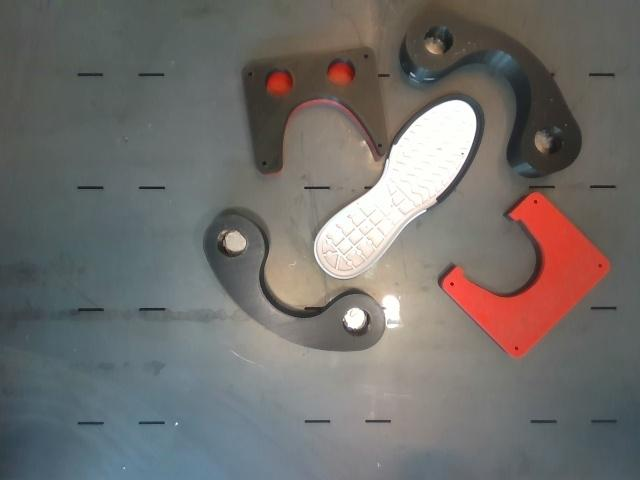shoes: (315, 95, 484, 278)
